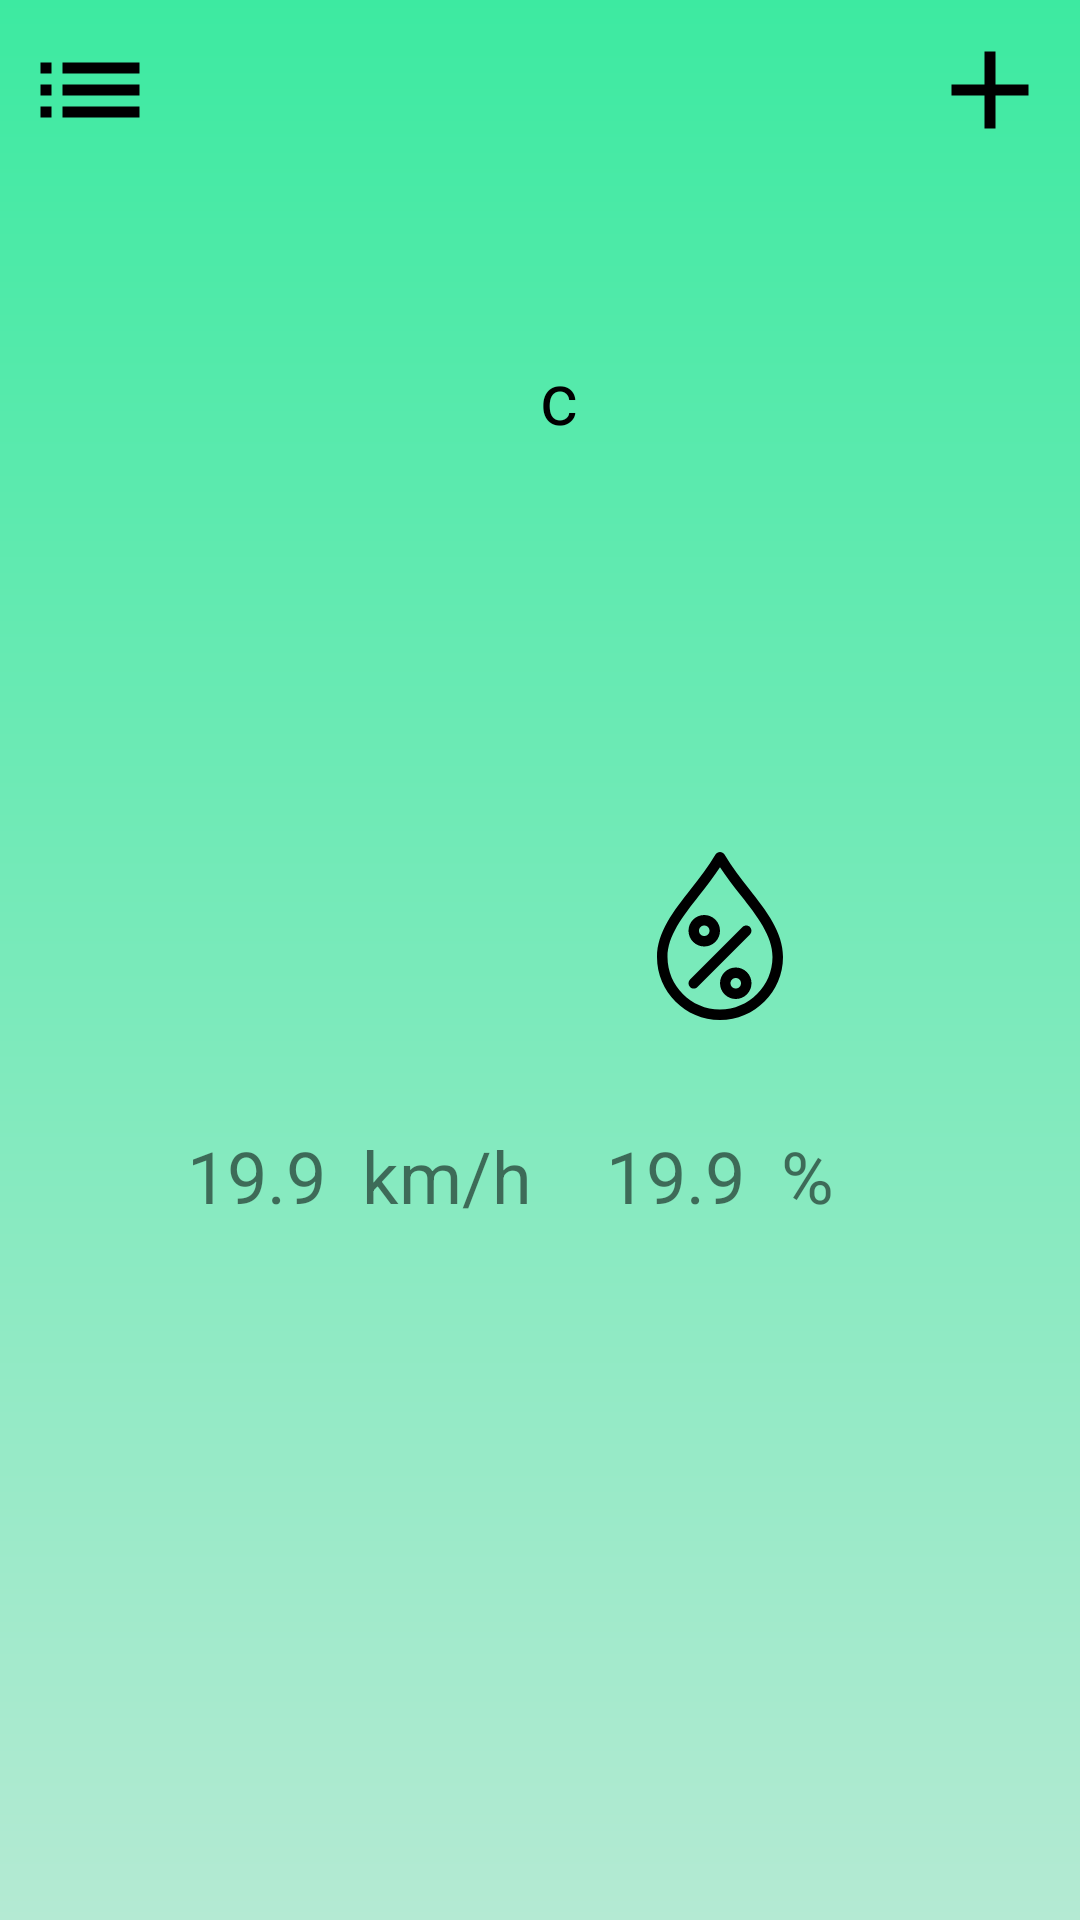

Point at icon controls on the screen. Image size 1080w x 1920h, points as [x,y].
add city: [990,90]
humidity: [720,936]
select city: [90,90]
